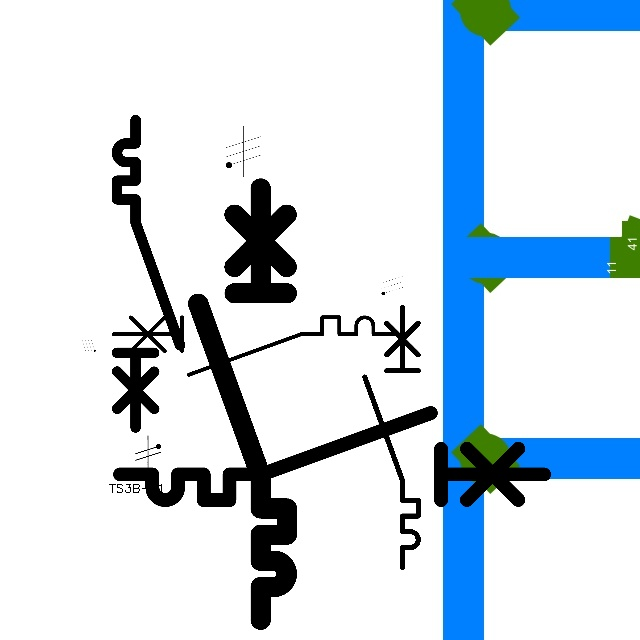interruptor_termomagnetico: (187, 177, 298, 630), (109, 402, 554, 511), (109, 112, 188, 436), (106, 310, 402, 382), (358, 300, 425, 573)
